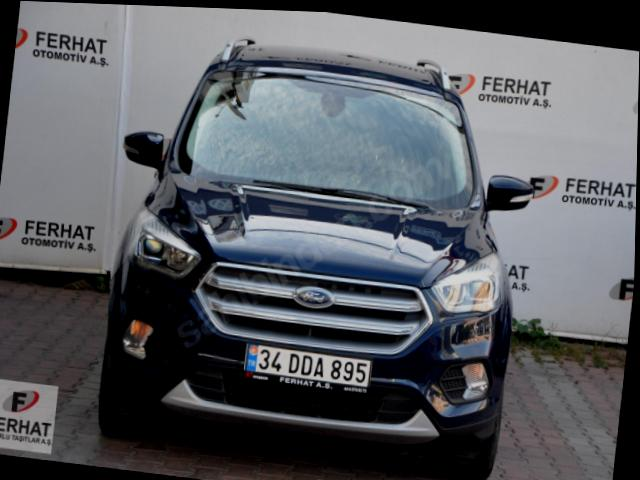plaka: (244, 344, 371, 391)
